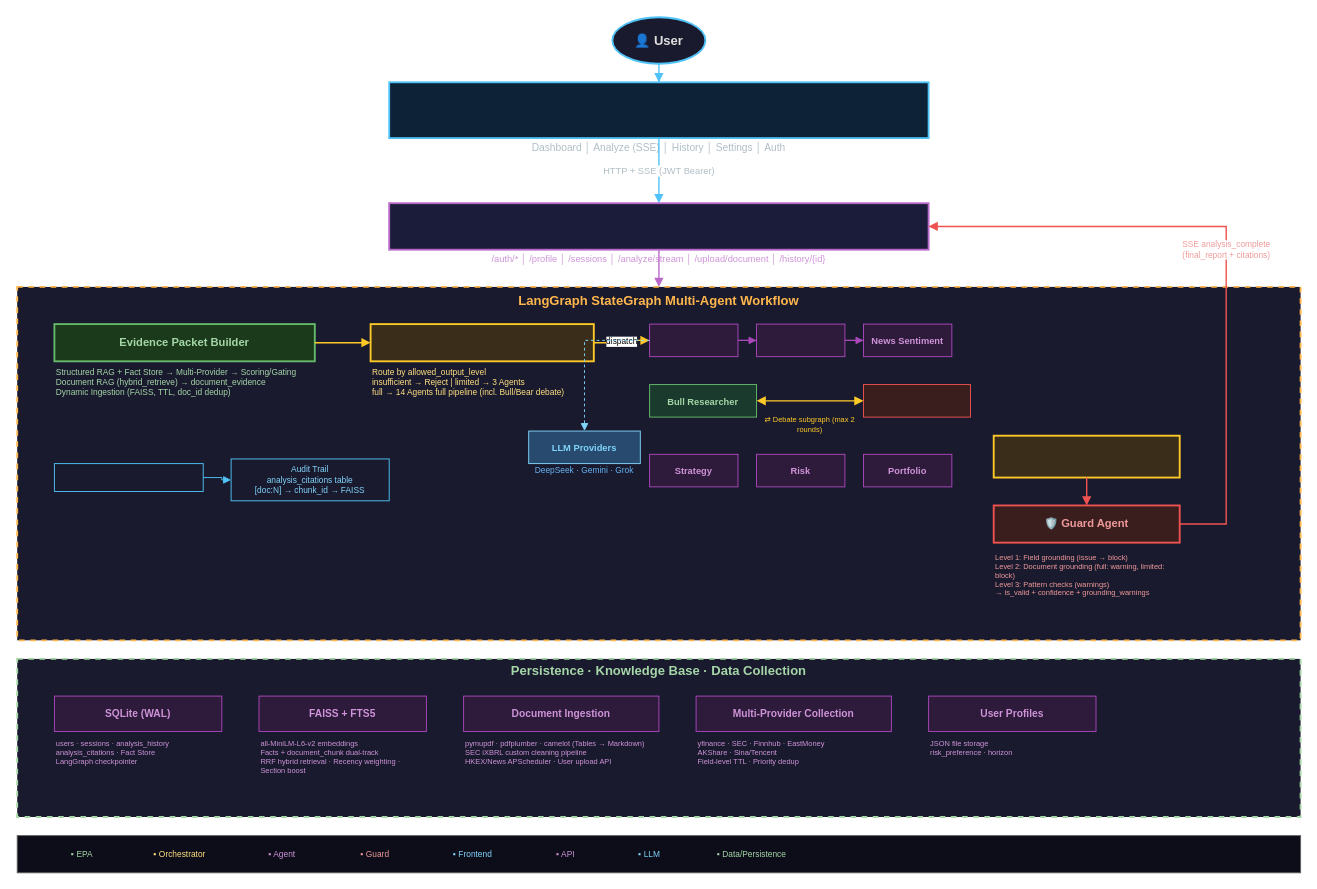
This 1317x889 diagram has some shape labels left out. Each missing label, with the centre of its shape:
Bear Researcher: the point at 916,400
FastAPI Backend (Python 3.12): the point at 658,226
Fundamental: the point at 800,340
Market Data: the point at 693,340
Orchestrator: the point at 481,342
React Frontend (Vite + TypeScript): the point at 658,110
Recommendation (Executive Synthesis + [doc:N]): the point at 1086,456
📎 CitationsPanel (Frontend): the point at 128,477
